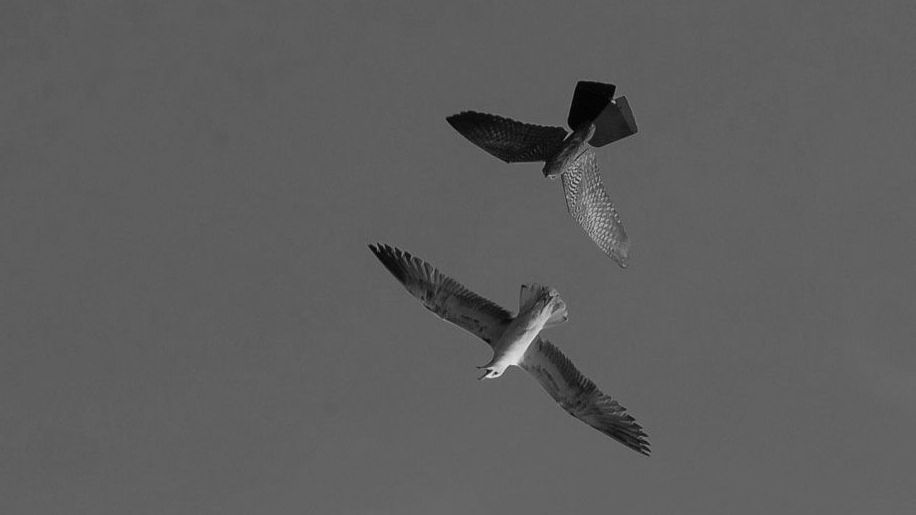Bird: (365, 233, 660, 463), (441, 76, 648, 275)
